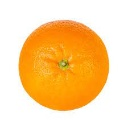orange: (17, 19, 110, 111)
